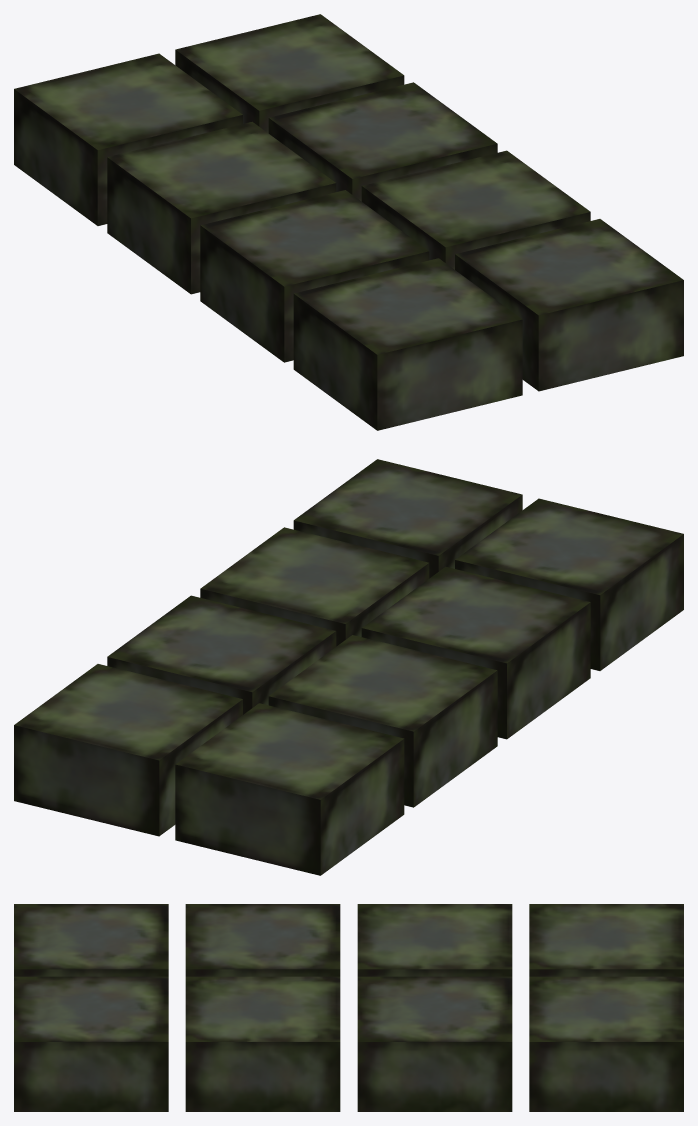
The model's file is cobblestone-small-01.fbx.
3 renders of one model, top to bottom at view 1: azimuth 30°, elevation 25°; view 2: azimuth 150°, elevation 25°; view 3: azimuth 270°, elevation 25°, orthographic. The views are drawn at different scales.
Parts seen in each view (by area): view 1: cobblestone_small_1; view 2: cobblestone_small_1; view 3: cobblestone_small_1.
Part boxes in pixels (left/top/right/bottom): cobblestone_small_1: left=14, top=14, right=683, bottom=430; cobblestone_small_1: left=14, top=459, right=683, bottom=875; cobblestone_small_1: left=14, top=904, right=683, bottom=1111.
Bounding box in the file's own units: 190 × 44.98 × 390.
